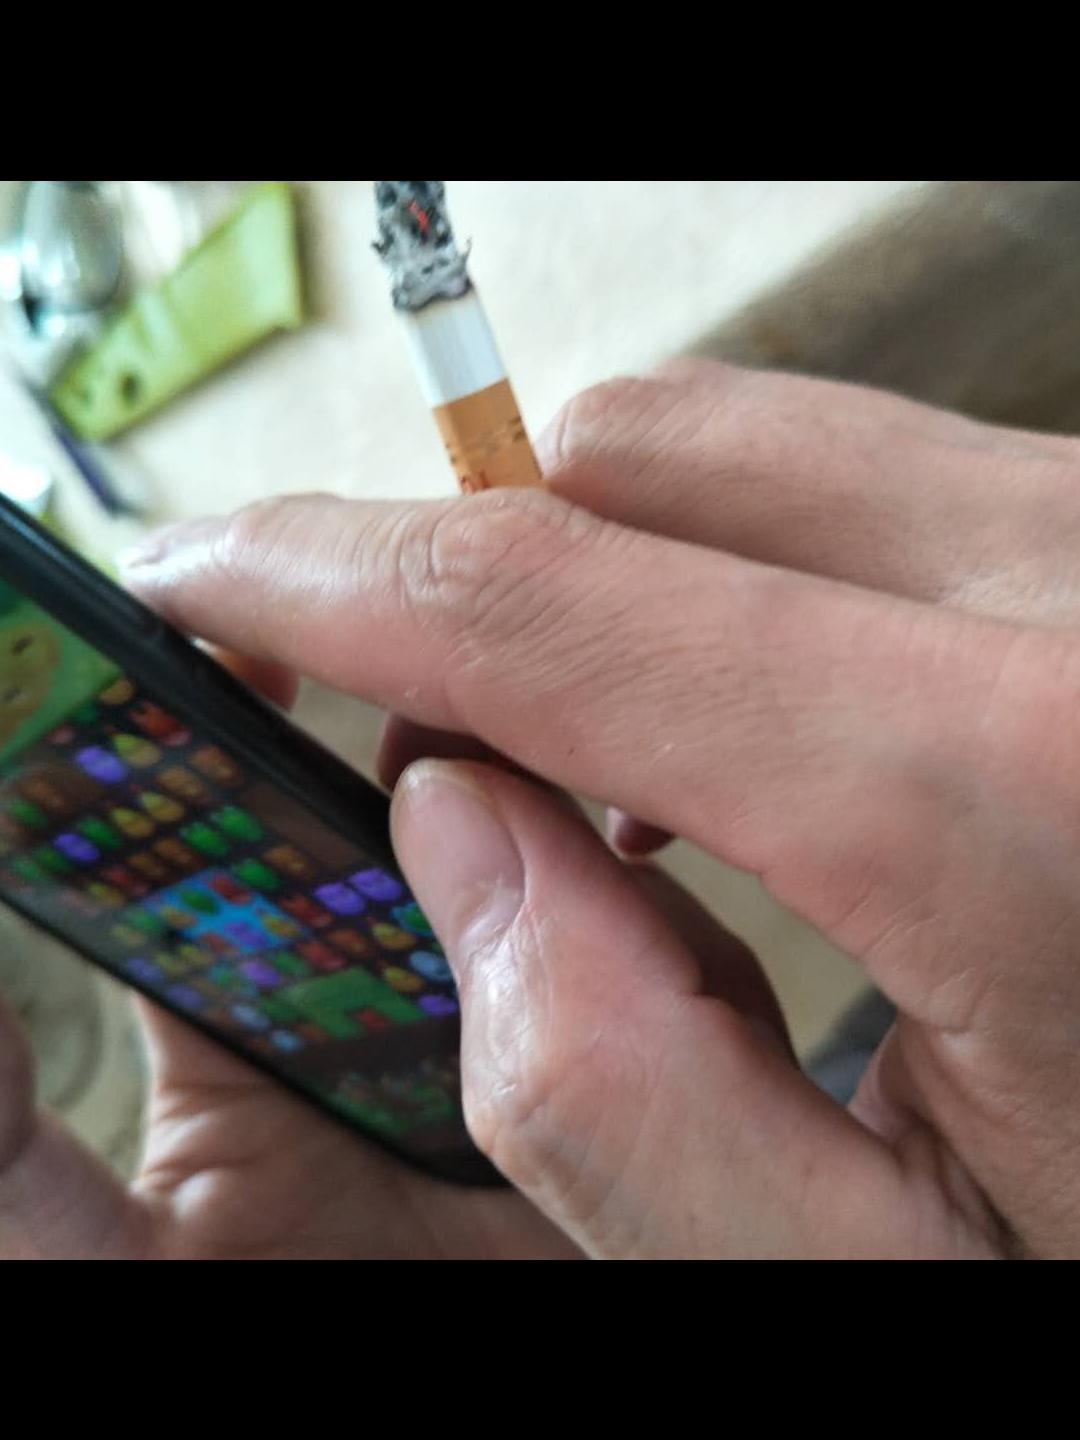Cigarette: (365, 180, 546, 510)
